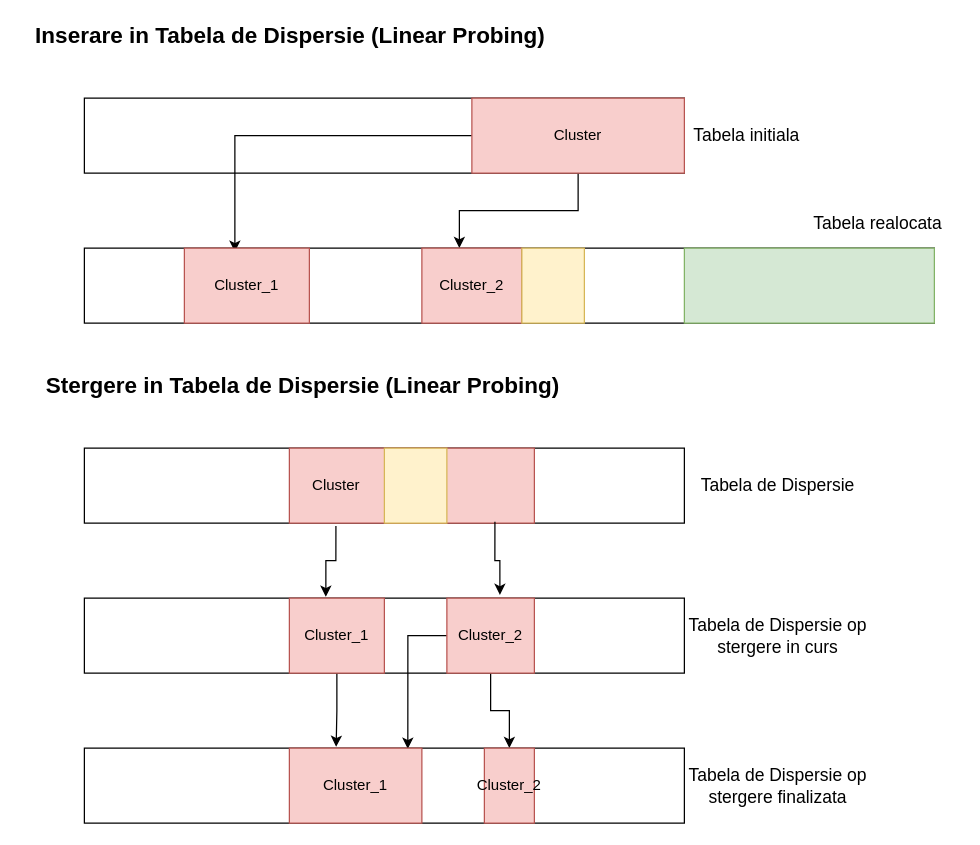
This 980x845 diagram has some shape labels left out. The shapes that lost their labels are listed below. From the top down, each one's centre as x and y in pixels, then its label:
At point (552, 285): "New Item".
At point (808, 285): "Extensie Tabela initiala".
At point (415, 485): "Del Item".
